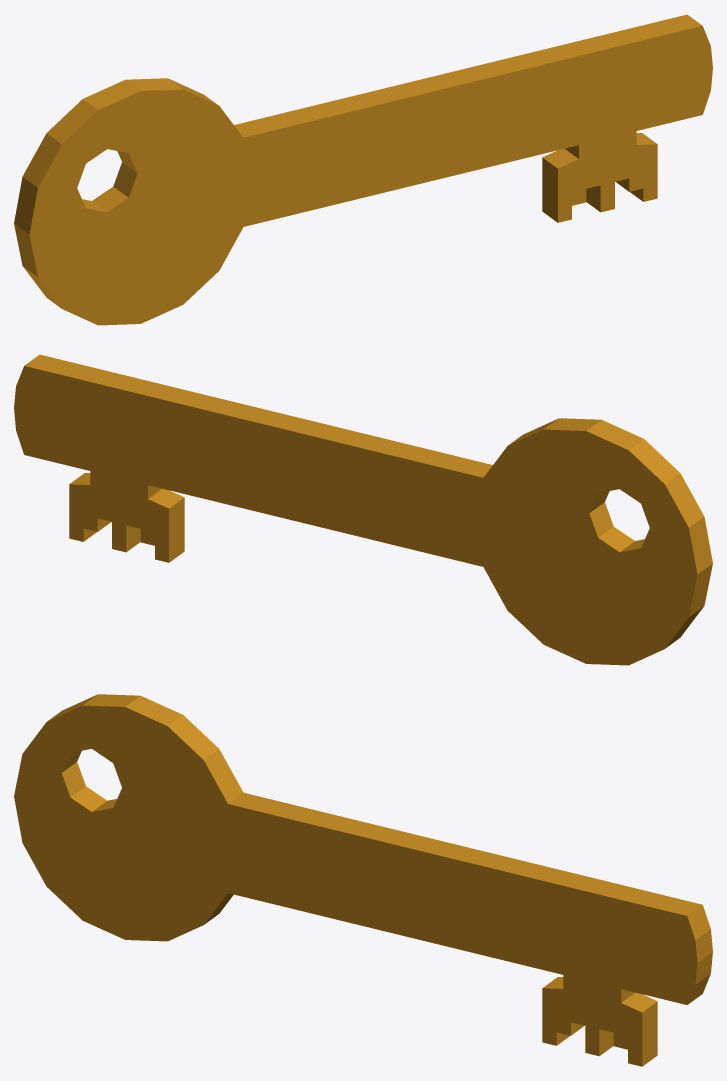
Rendered from key.fbx.
3 views of the same model, one above another, from view 1: azimuth 30°, elevation 25°; view 2: azimuth 150°, elevation 25°; view 3: azimuth 330°, elevation 25° (orthographic).
Visible parts, largest first — view 1: Circle; view 2: Circle; view 3: Circle.
Part boxes in pixels (box(x1,y1,x2,y2)): Circle: box(14, 14, 712, 325); Circle: box(14, 354, 712, 665); Circle: box(14, 694, 712, 1066).
Bounding box in the file's own units: 614 × 201 × 24.14.
